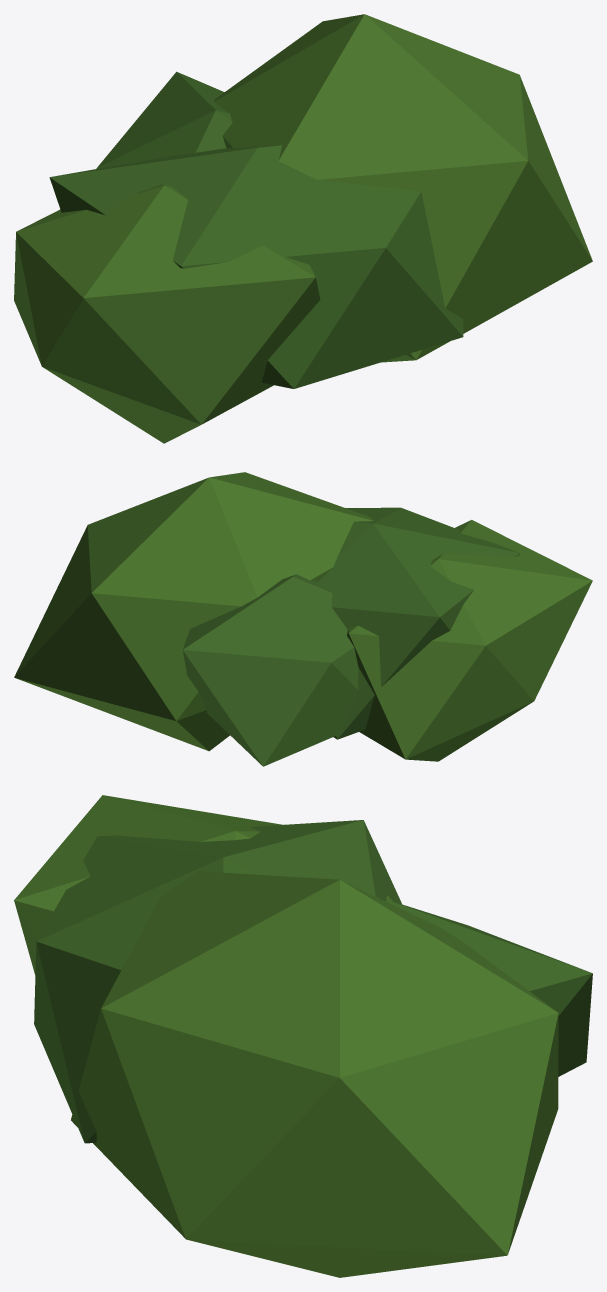
Rendered from bush.glb.
3 views of the same model, one above another, from view 1: azimuth 30°, elevation 25°; view 2: azimuth 150°, elevation 25°; view 3: azimuth 270°, elevation 25° (orthographic). The views are drawn at different scales.
Visible parts, largest first — view 1: bush; view 2: bush; view 3: bush.
Boxes of the visible parts, x1,y1,x2,y2 form: bush: (14,14,592,443); bush: (14,472,592,766); bush: (14,795,592,1277).
Size of the model in its own units: 2.23 by 1.33 by 1.75.
